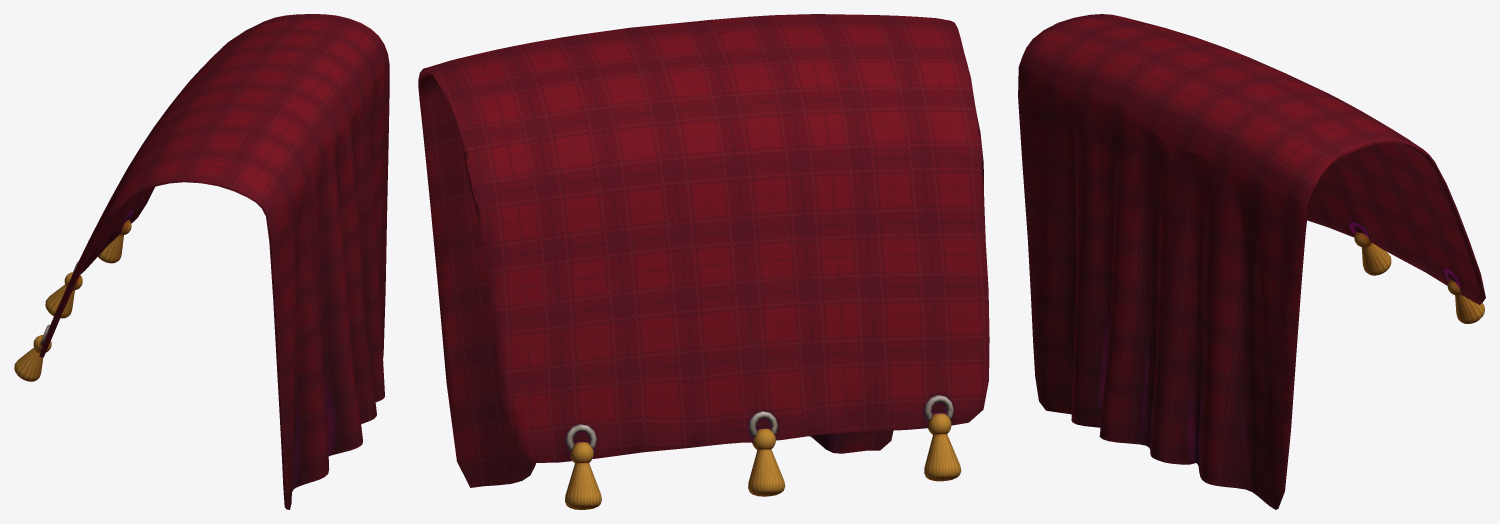
Rendered from SM_Cover.fbx.
3 views of the same model, side by side, from view 1: azimuth 30°, elevation 25°; view 2: azimuth 150°, elevation 25°; view 3: azimuth 270°, elevation 25° (orthographic). The views are drawn at different scales.
Visible parts, largest first — view 1: SM_Cover_LOD0; view 2: SM_Cover_LOD0; view 3: SM_Cover_LOD0.
Part boxes in pixels (x1,y1,x2,y2): SM_Cover_LOD0: (14,14,389,509); SM_Cover_LOD0: (418,14,989,509); SM_Cover_LOD0: (1018,14,1485,509).
Bounding box in the file's own units: 82.62 × 81.77 × 71.47.
1 material, 1 textured.
